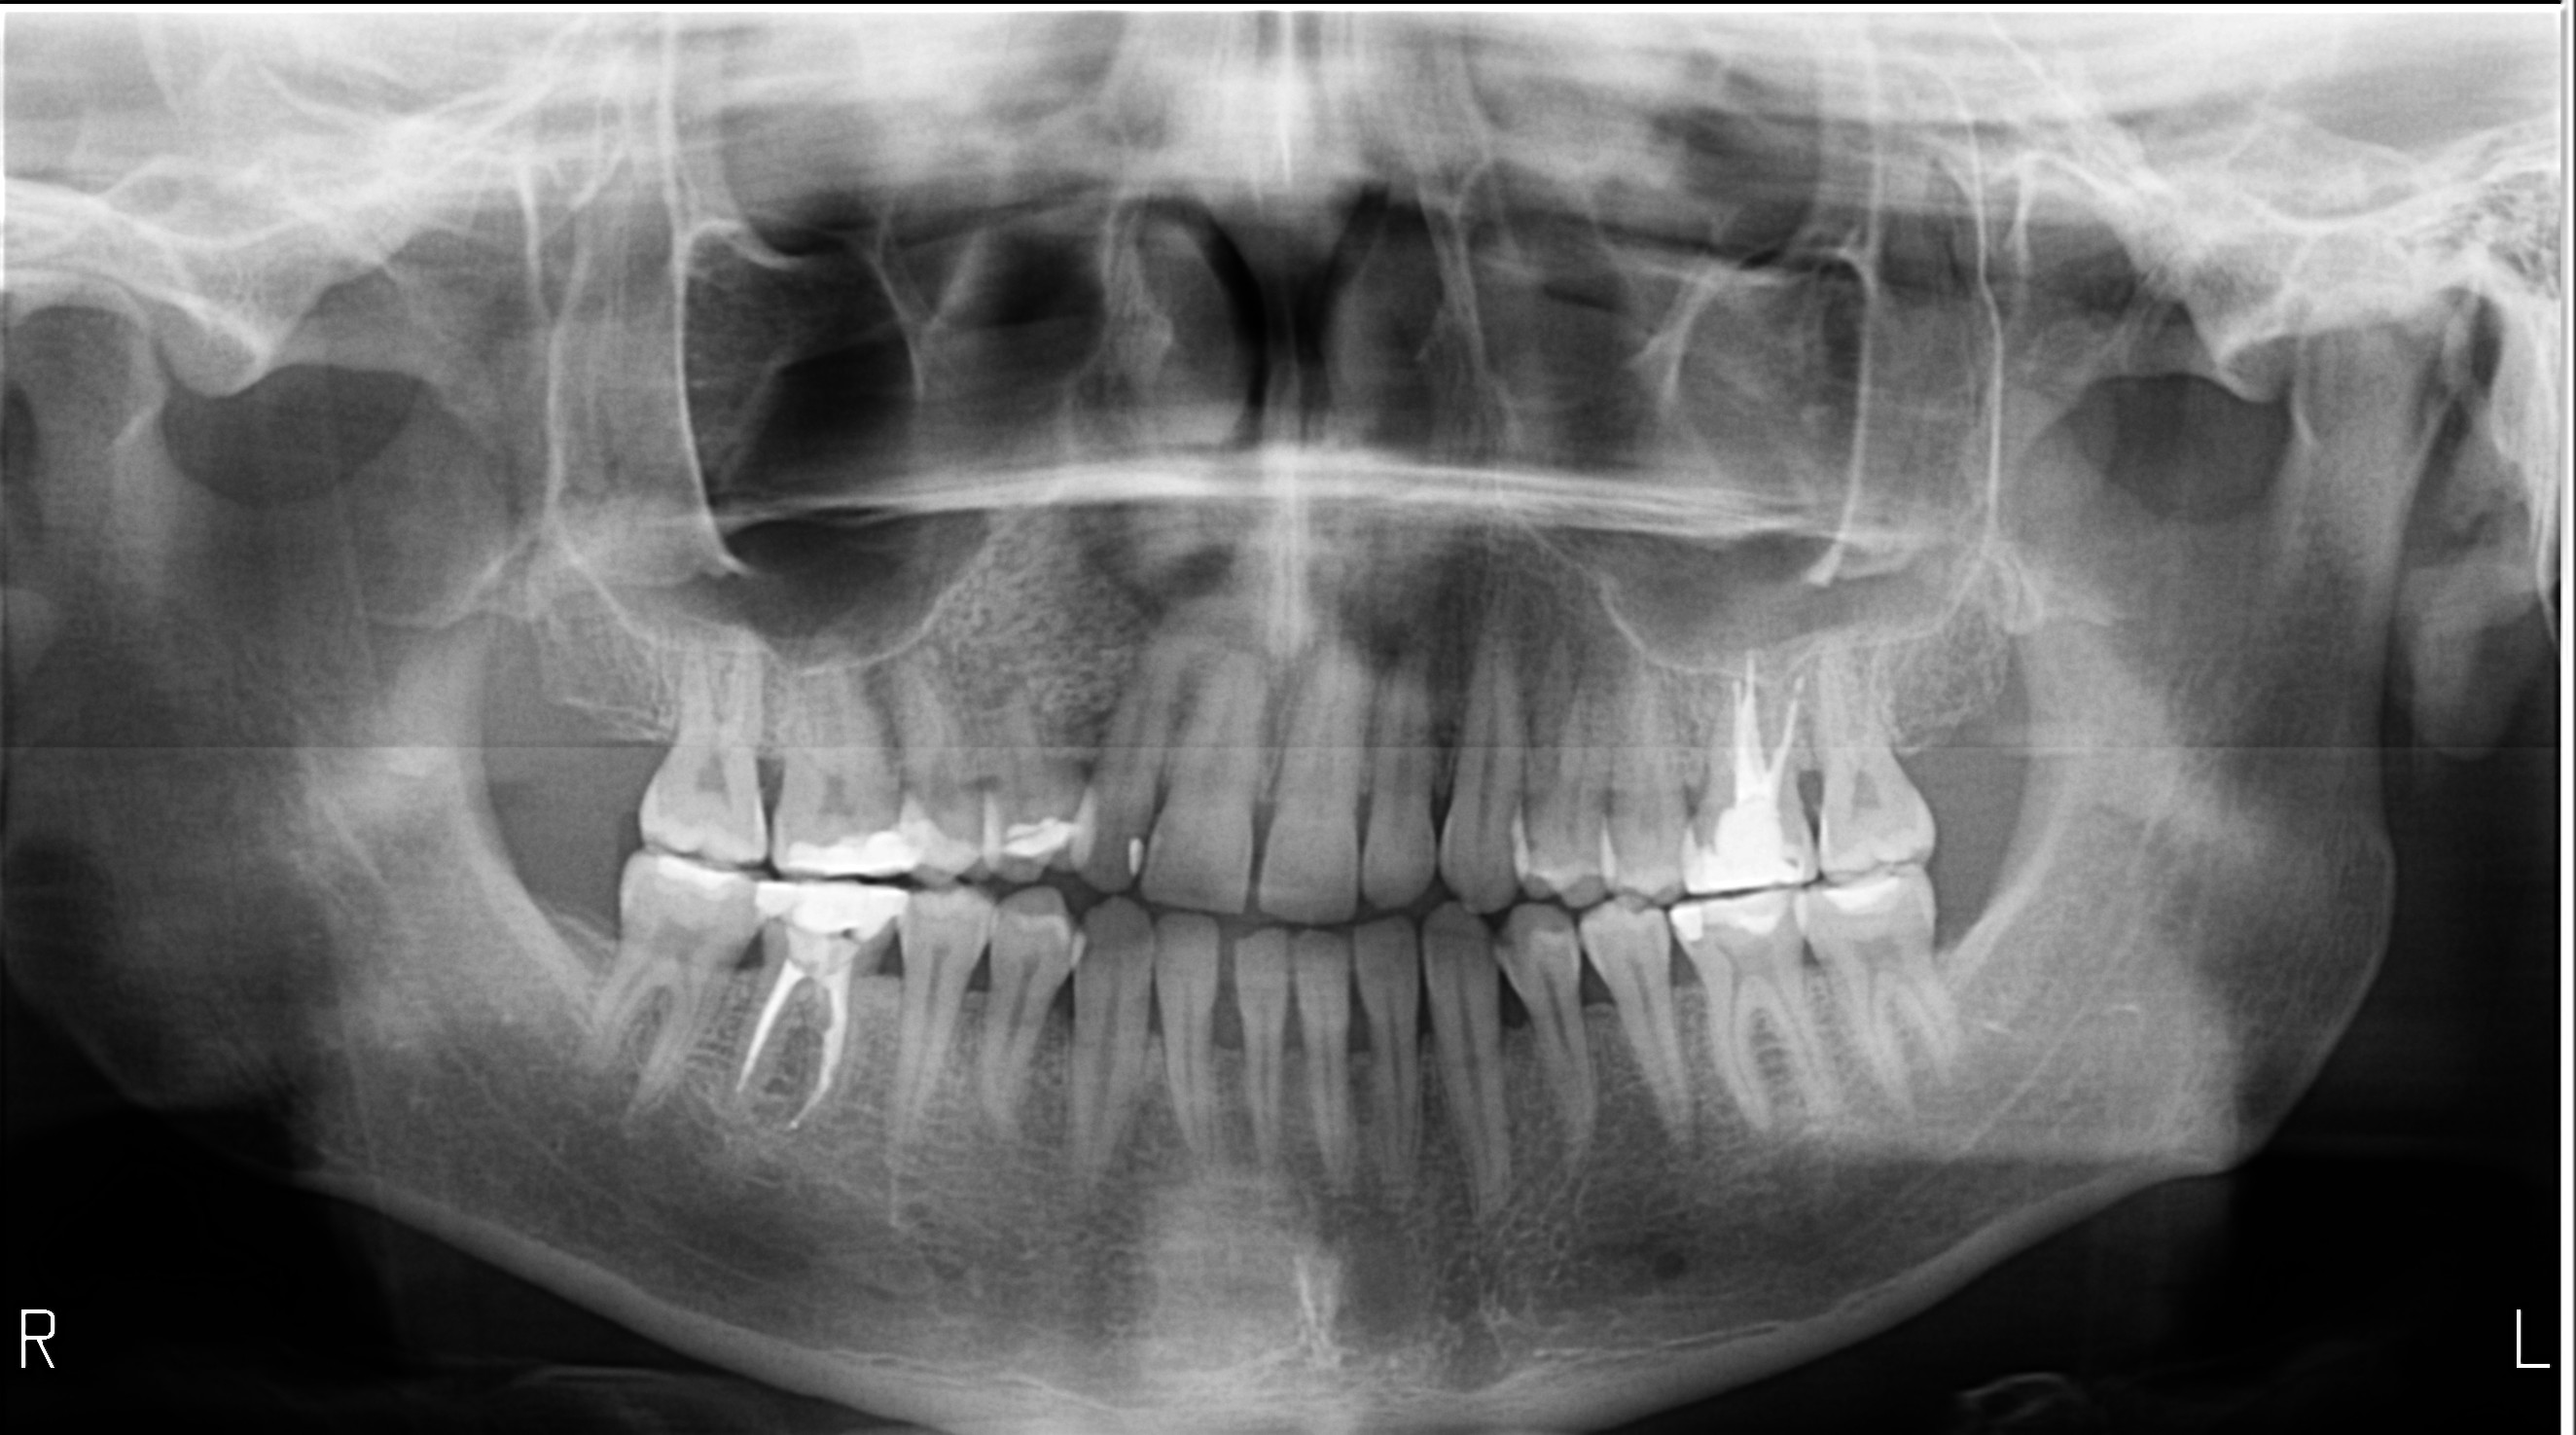END: (696, 953, 887, 1156), (1691, 624, 1822, 793)
OBT: (747, 862, 908, 977), (1671, 783, 1816, 894), (1657, 875, 1799, 970), (774, 795, 913, 889), (892, 790, 988, 896), (1000, 790, 1106, 877), (634, 847, 749, 921), (1816, 862, 1922, 940), (1102, 822, 1157, 884)
